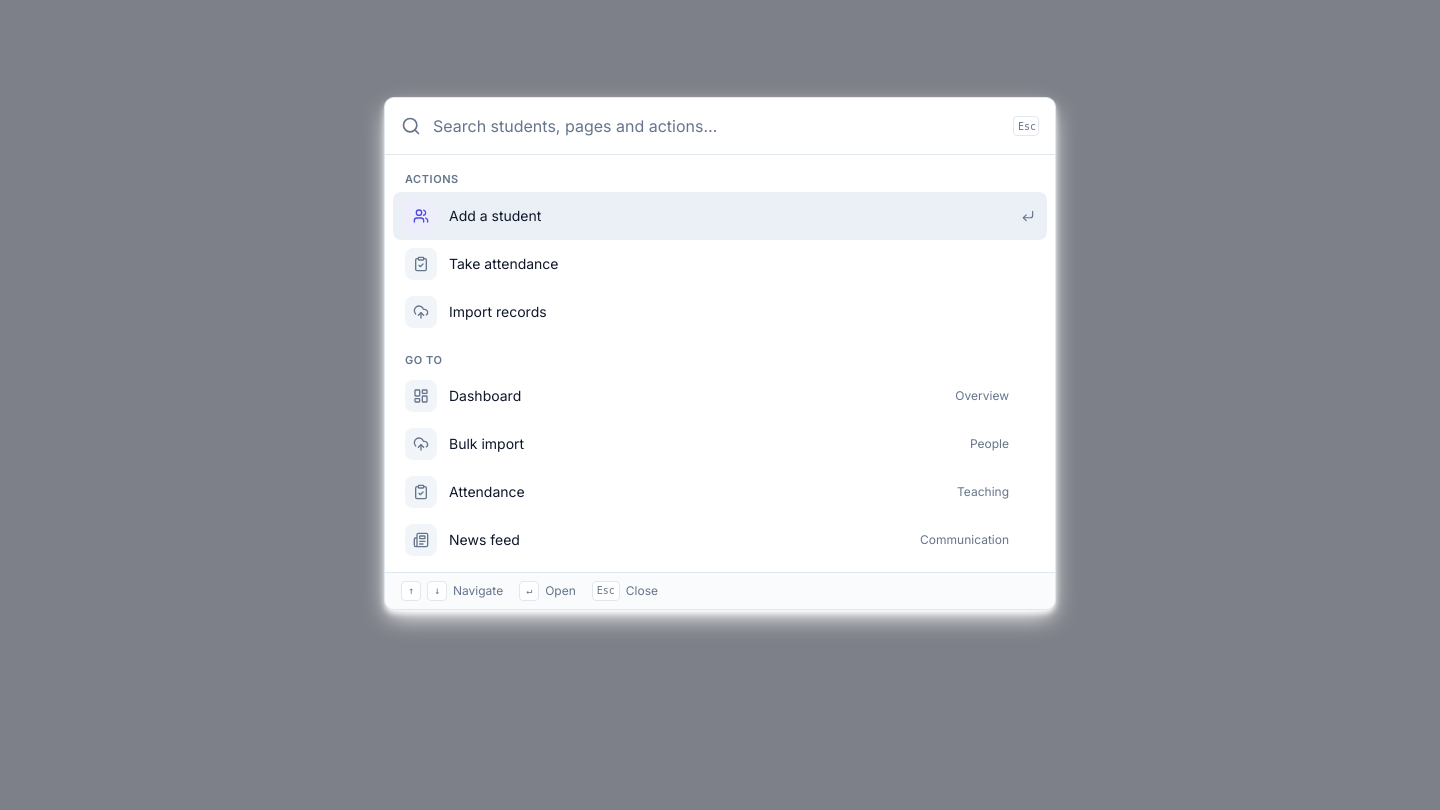
Test: CommandPalette › finds an action by one of its keywords and says why it is there
Type "excel" into the dropdown named "command palette search".
click(717, 126); type("excel")  # box left=433, top=98, right=1001, bottom=154
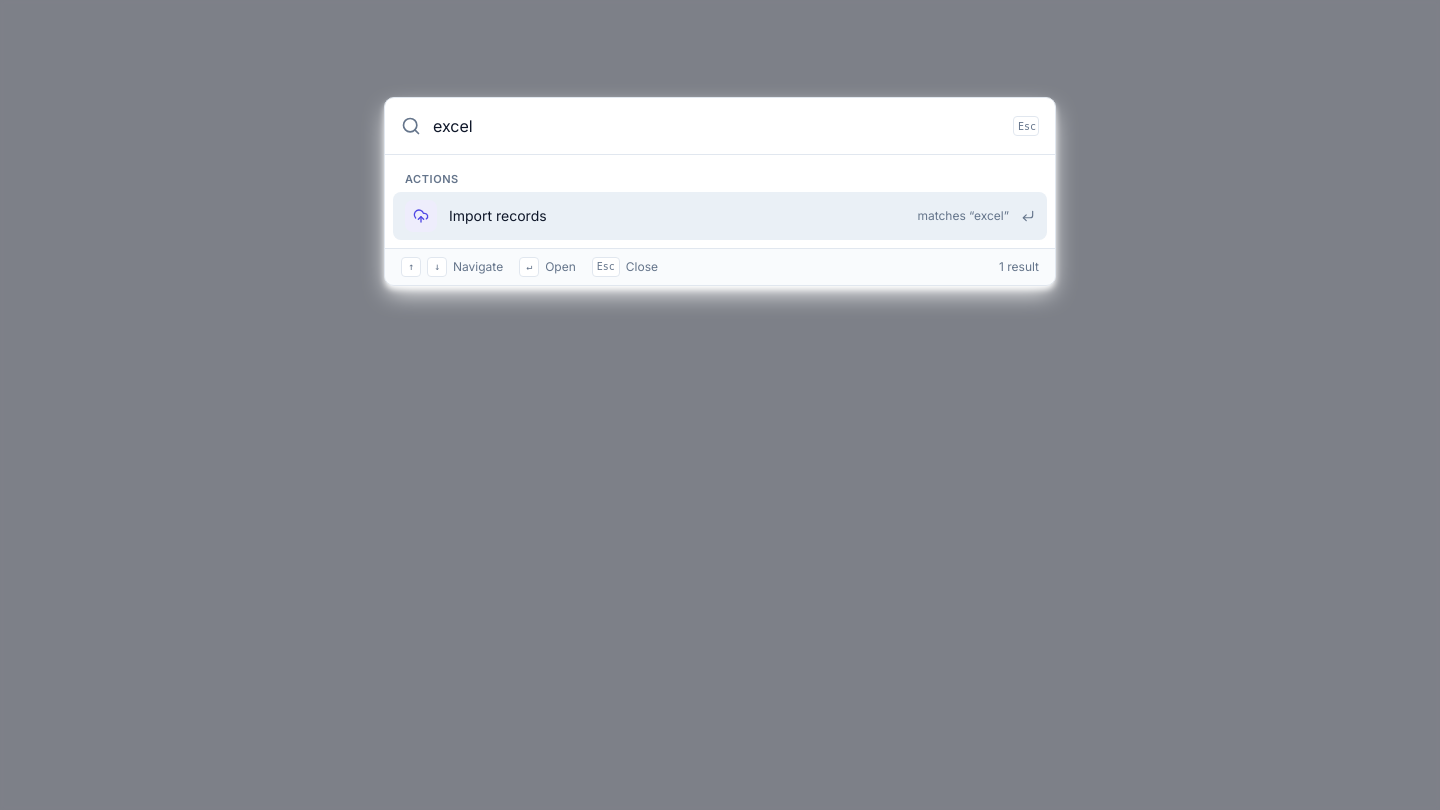
Expected: the option "Import records matches “excel”" is shown, left=393, top=192, right=1047, bottom=240
Expected: the text "matches “excel”" is shown, left=917, top=208, right=1009, bottom=224
